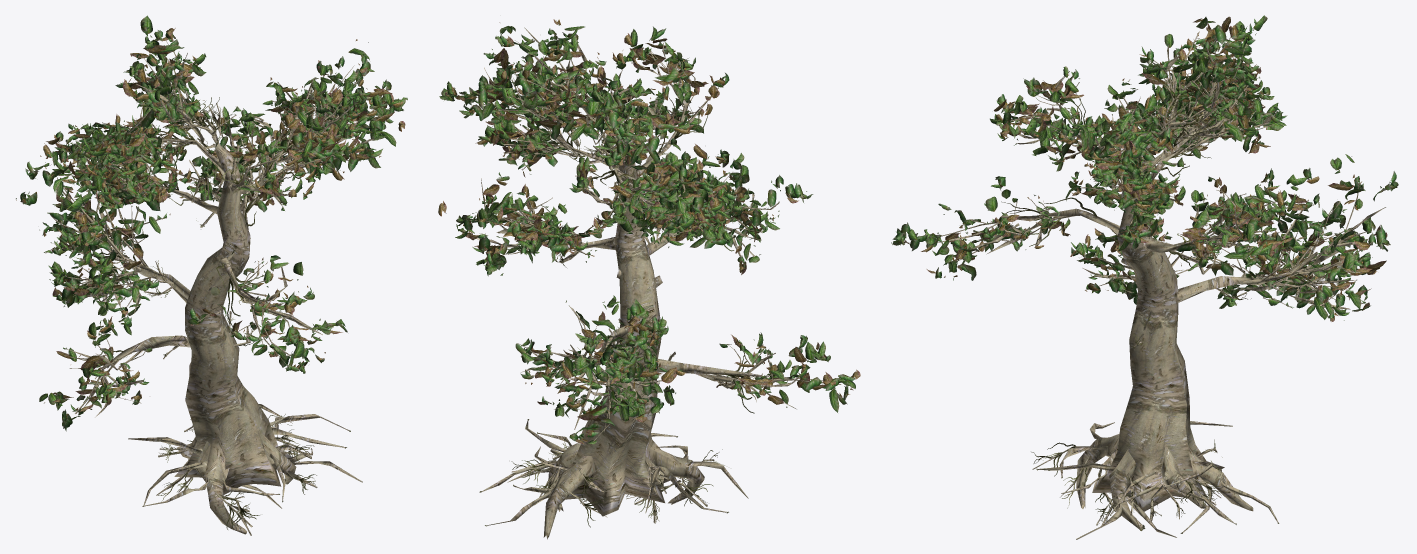
Rendered from kingsville_wood01.gltf.
3 renders of one model, left to right at view 1: azimuth 30°, elevation 25°; view 2: azimuth 150°, elevation 25°; view 3: azimuth 270°, elevation 25°, orthographic. The views are drawn at different scales.
Visible parts, largest first — view 1: Kingsville wood01; view 2: Kingsville wood01; view 3: Kingsville wood01.
Boxes of the visible parts, x1,y1,x2,y2 form: Kingsville wood01: (16,15,407,535); Kingsville wood01: (438,19,860,539); Kingsville wood01: (891,15,1398,539).
Size of the model in its own units: 3.81 by 4.42 by 4.2.
Materials: 4 (4 with a texture image).
